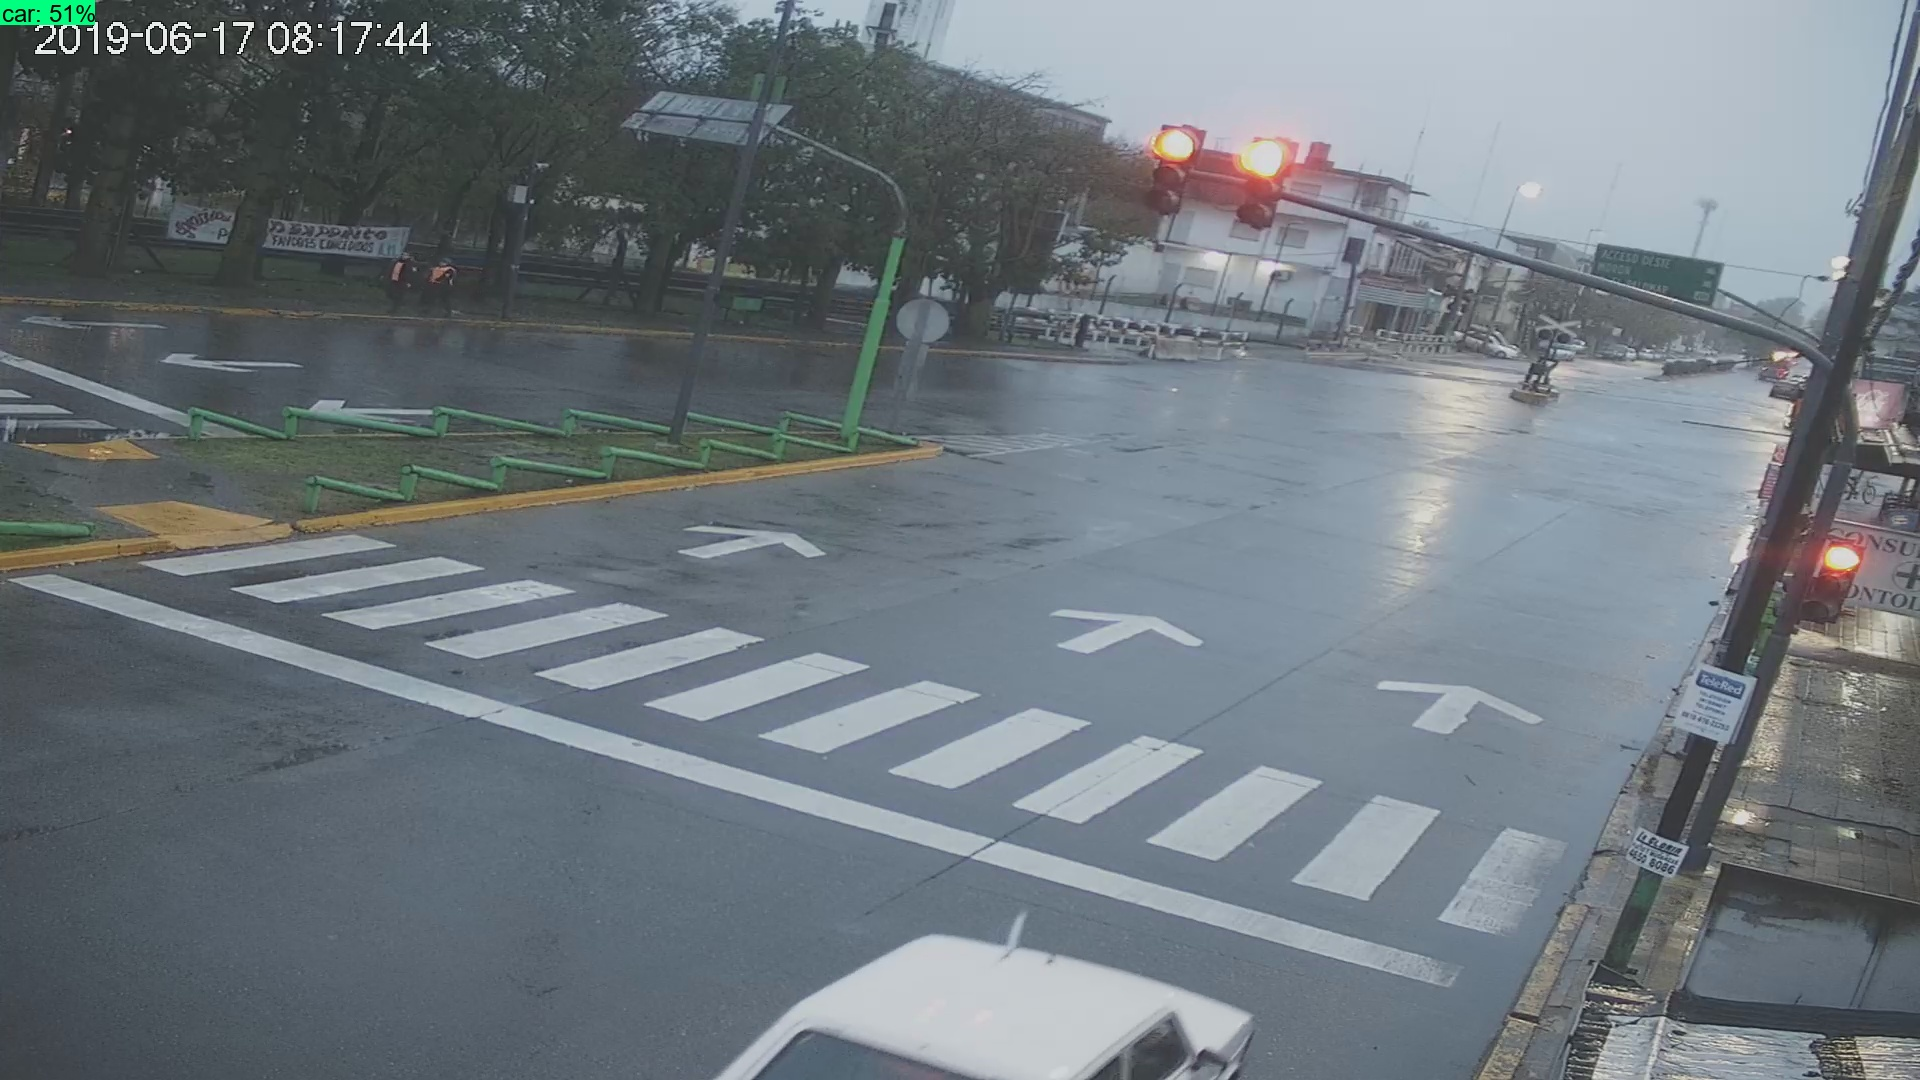car: (690, 909, 1263, 1080)
